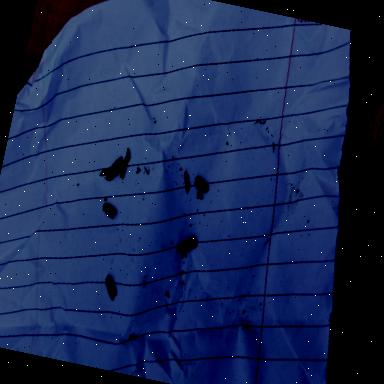pbw: (174, 232, 198, 260), (105, 153, 125, 183), (100, 201, 118, 219), (99, 164, 110, 178)
